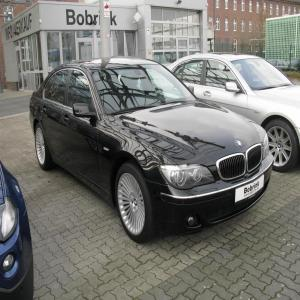Vehicle-registration-plate: (237, 176, 265, 204)
